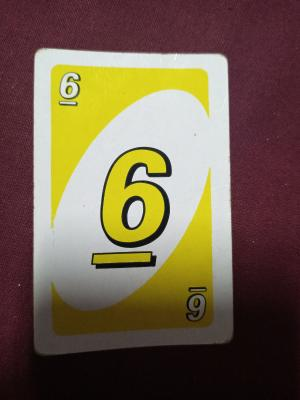num_6: (85, 136, 182, 291)
yellow: (52, 65, 96, 135)
